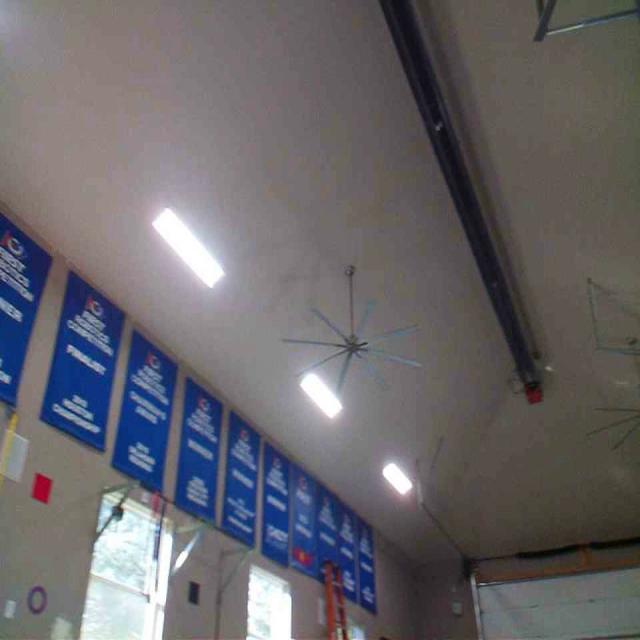ring_purple: (27, 584, 47, 614)
square_black: (185, 580, 200, 604)
square_red: (29, 469, 54, 504)
